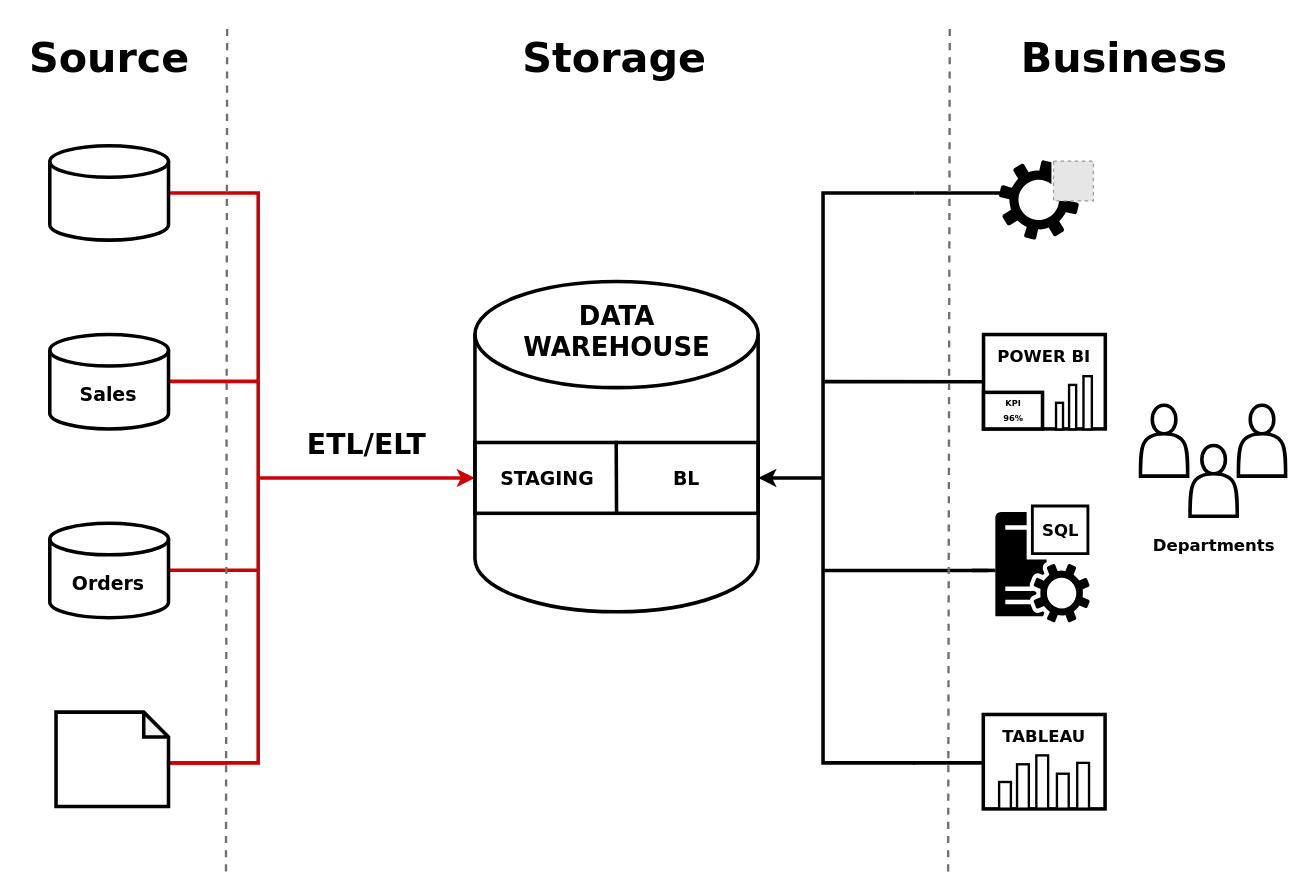
This 1307x893 diagram has some shape labels left out. Grey dashed boxes stand in for pictures. Here are the shapes that lost their labels. From the top down, the centre of each, then its label:
(x=108, y=192): CRM
(x=112, y=759): Files
